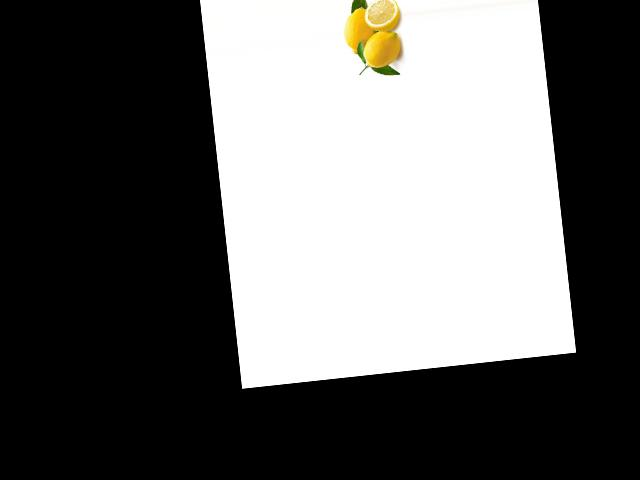lemon: (340, 7, 380, 57)
